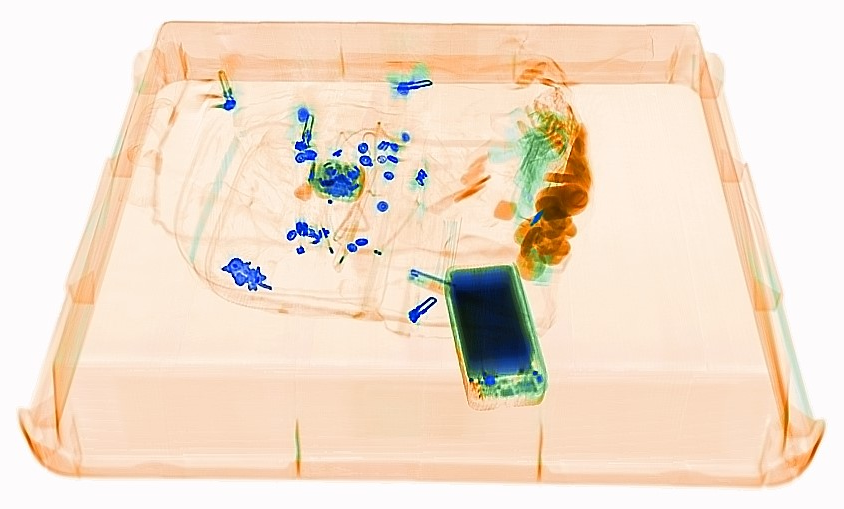PortableBattery: (438, 256, 553, 416)
